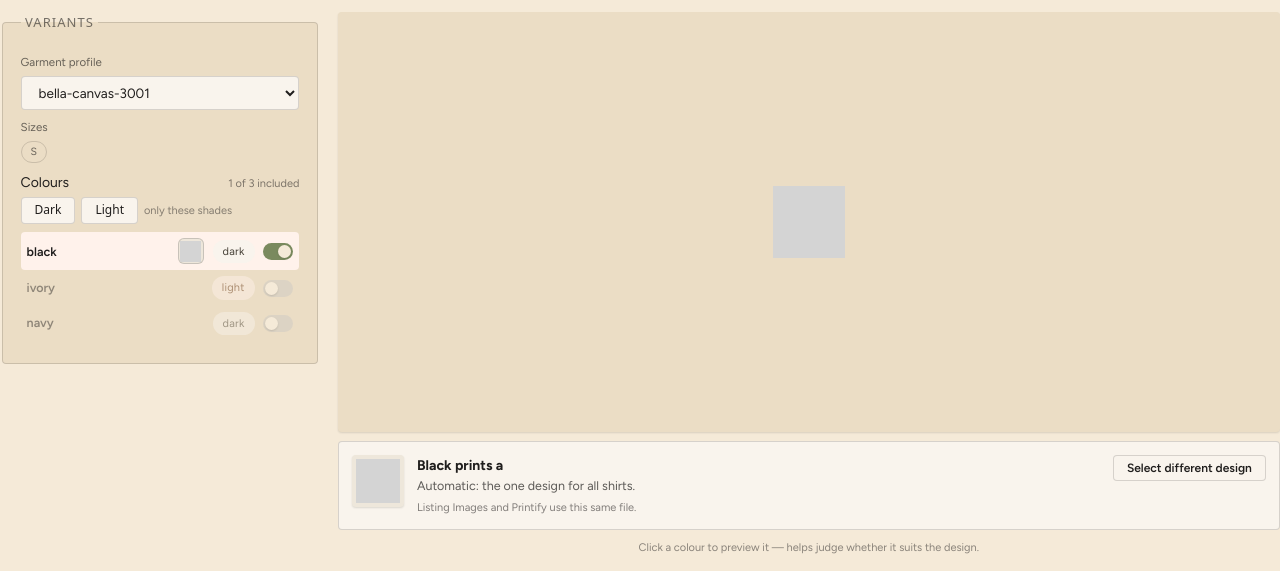
Scenario: VariantsTab's tone tags and the card under the stage › says a colour that is switched off is not sold, instead of a card
Click the button with aria-label "Preview ivory".
click(115, 288)  # box [27,278,203,298]
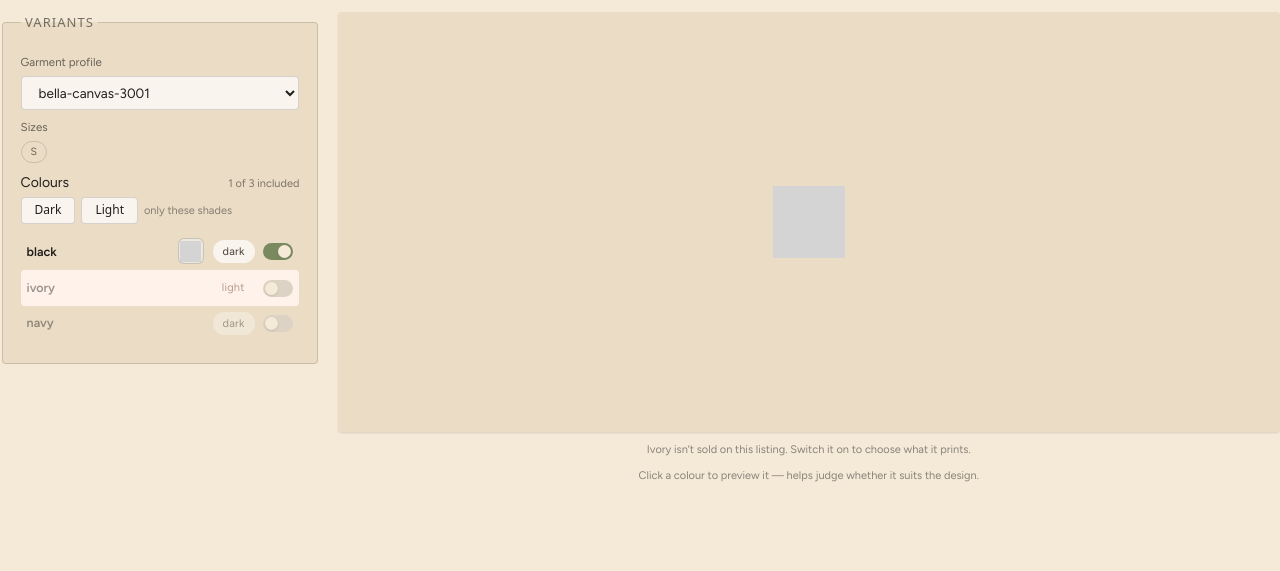
Expected: the element with class "color-prints" is gone
Expected: the text "Ivory isn’t sold on this listing. Switch it on to choose what it prints." is shown, [647,443,971,456]
